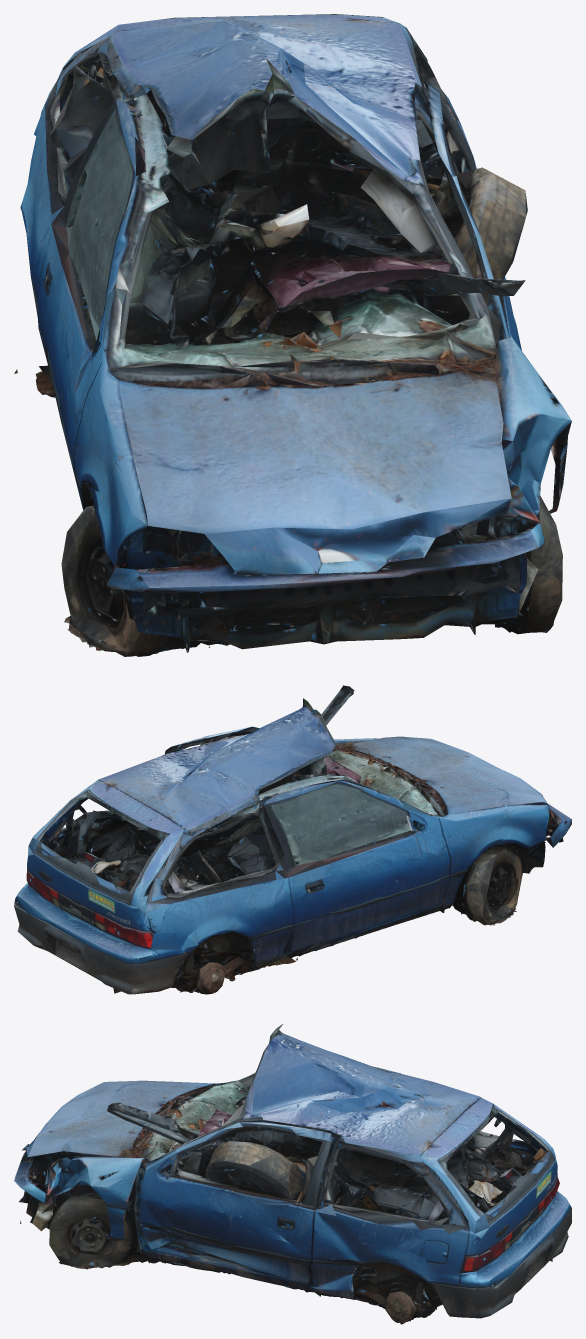
File: wreck.glb
The picture shows the model from 3 angles, top to bottom: view 1: azimuth 30°, elevation 25°; view 2: azimuth 150°, elevation 25°; view 3: azimuth 270°, elevation 25°; orthographic projection. The views are drawn at different scales.
Visible parts, largest first — view 1: Object_2; view 2: Object_2; view 3: Object_2.
Boxes of the visible parts, x1,y1,x2,y2 form: Object_2: (14, 14, 571, 656); Object_2: (14, 685, 571, 994); Object_2: (14, 1024, 571, 1324).
Bounding box in the file's own units: 11.57 × 7 × 15.61.
1 material, 1 textured.
